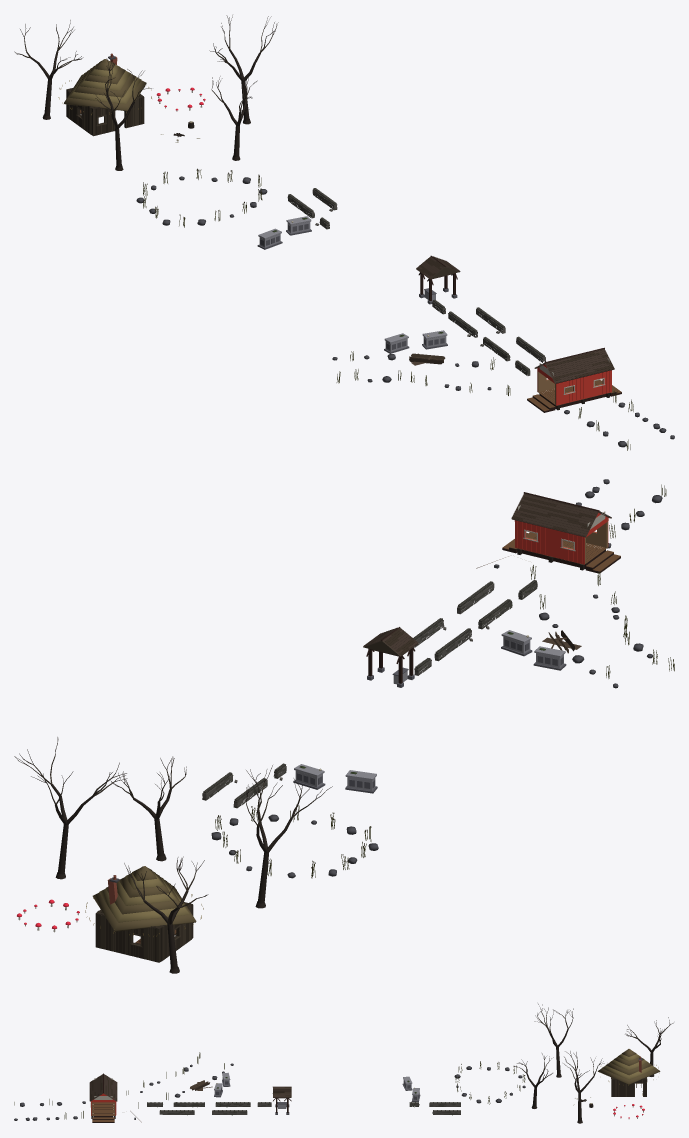
The model's file is hg-west.glb.
The picture shows the model from 3 angles, top to bottom: view 1: azimuth 30°, elevation 25°; view 2: azimuth 150°, elevation 25°; view 3: azimuth 270°, elevation 25°; orthographic projection. The views are drawn at different scales.
Visible parts, largest first — view 1: hg-west; view 2: hg-west; view 3: hg-west.
Part boxes in pixels (x1,y1,x2,y2): hg-west: (14, 15, 674, 450); hg-west: (14, 479, 674, 973); hg-west: (14, 1004, 673, 1123).
Bounding box in the file's own units: 25.1 × 10.74 × 94.33.
